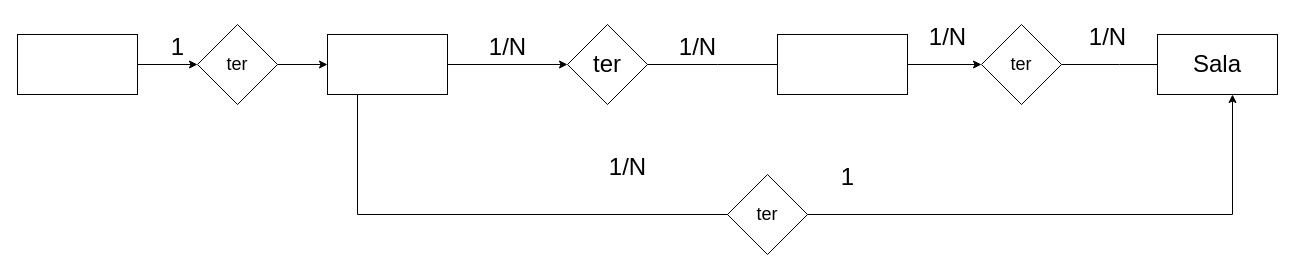
This 1295x272 diagram has some shape labels left out. The centre of each missing label's shape, as x and y in pixels:
"Escola" goes at pixel 77 64.
"professores" goes at pixel 842 64.
"turmas" goes at pixel 387 64.
